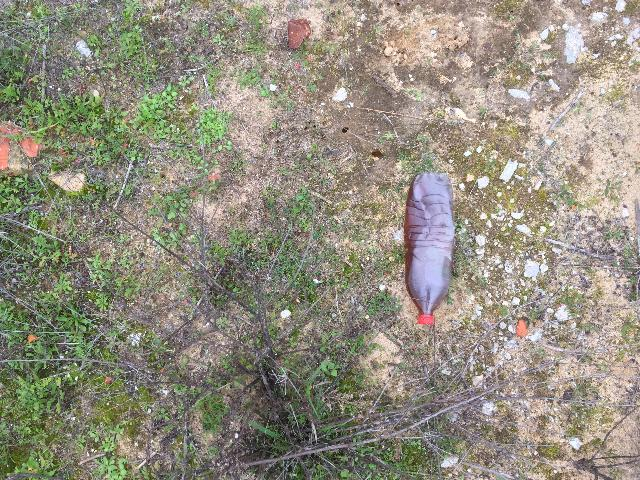plastic: (404, 172, 454, 325)
